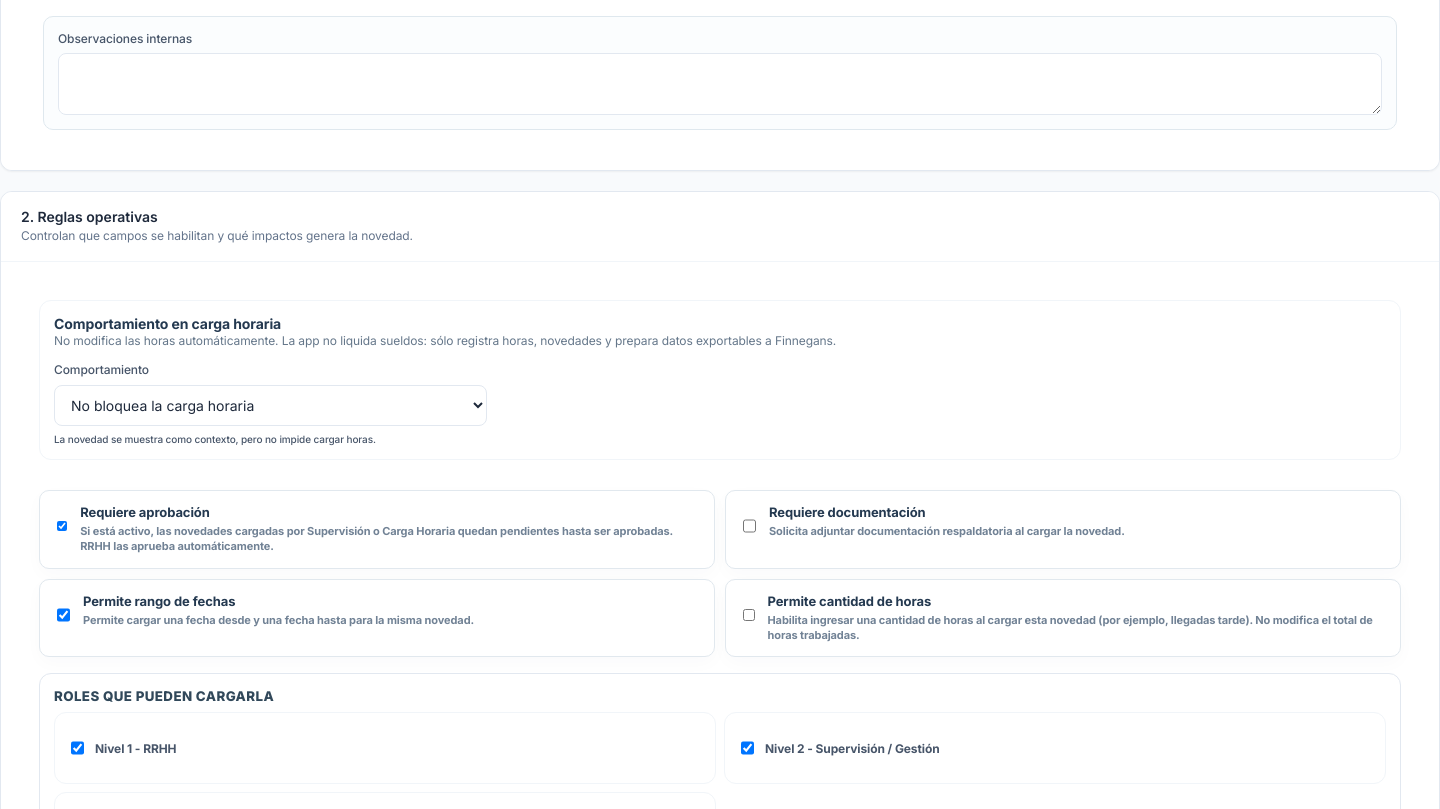
Test: NoveltyTypeCreatePage — Etapa 15L.2B › cambiar el comportamiento horario actualiza la descripción mostrada
(page scrolled)
Check: the heading "2. Reglas operativas" is shown, box top-left (21, 208), bottom-right (158, 226)
Select "Bloquea nueva carga horaria cuando la novedad está aprobada" in the dropdown labelled "Comportamiento". click: (271, 405)
box: top-left (54, 385), bottom-right (487, 426)
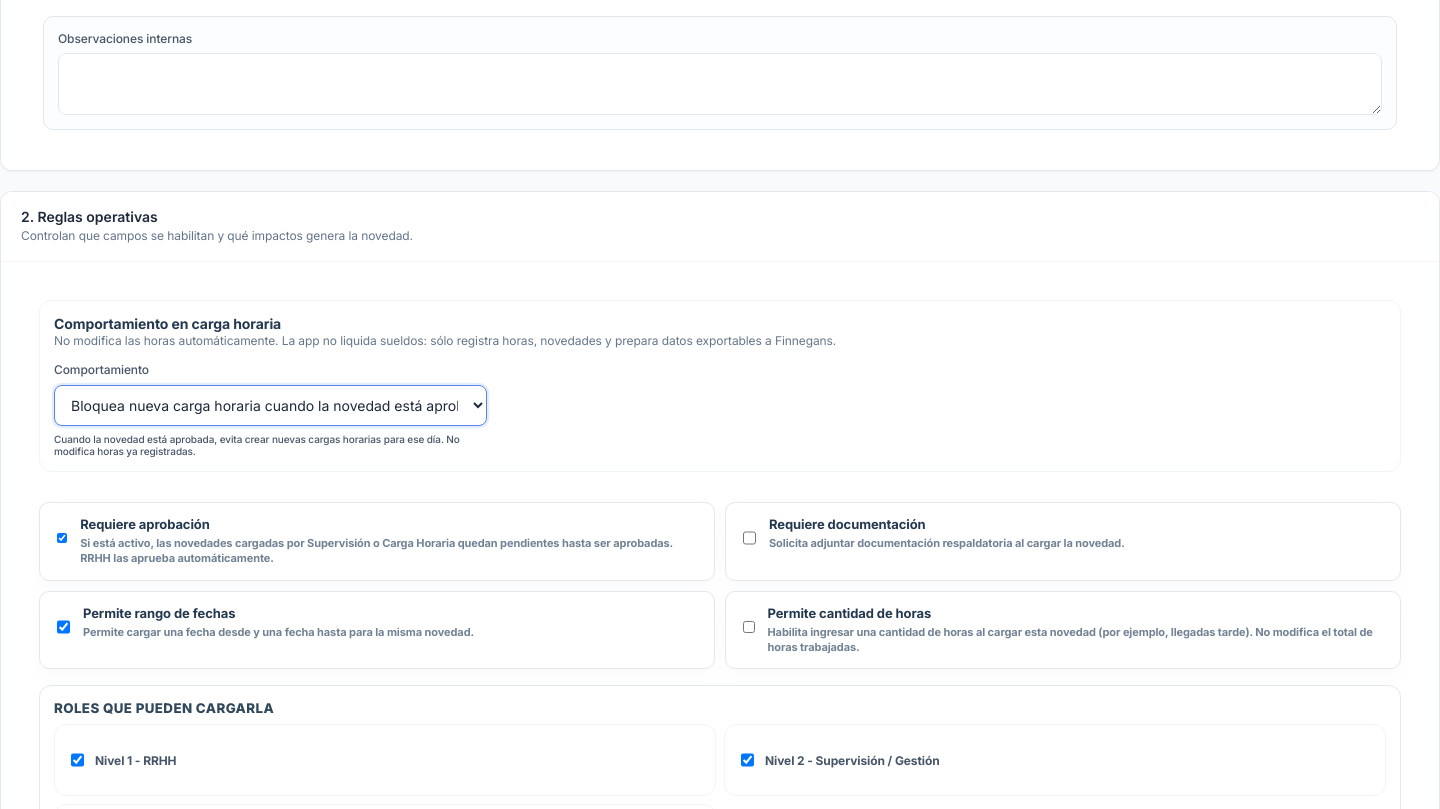
Check: the text "Cuando la novedad está aprobada, evita crear nuevas cargas horarias" is shown, box top-left (54, 433), bottom-right (460, 457)
